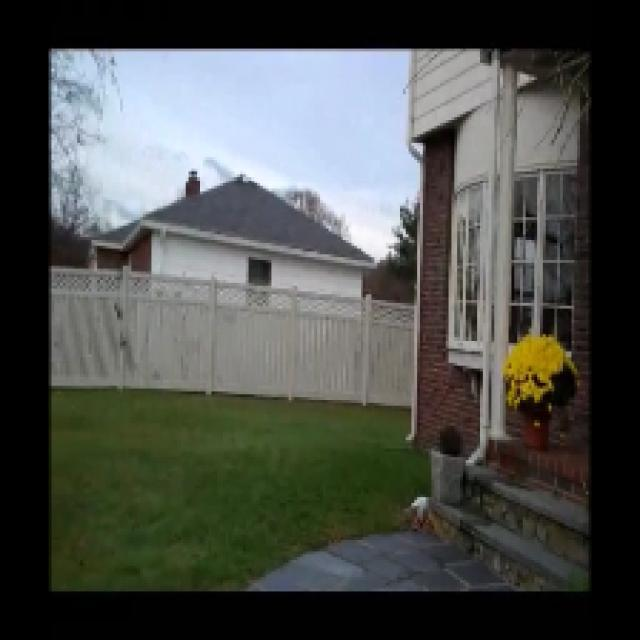Fire: (499, 332, 573, 393)
